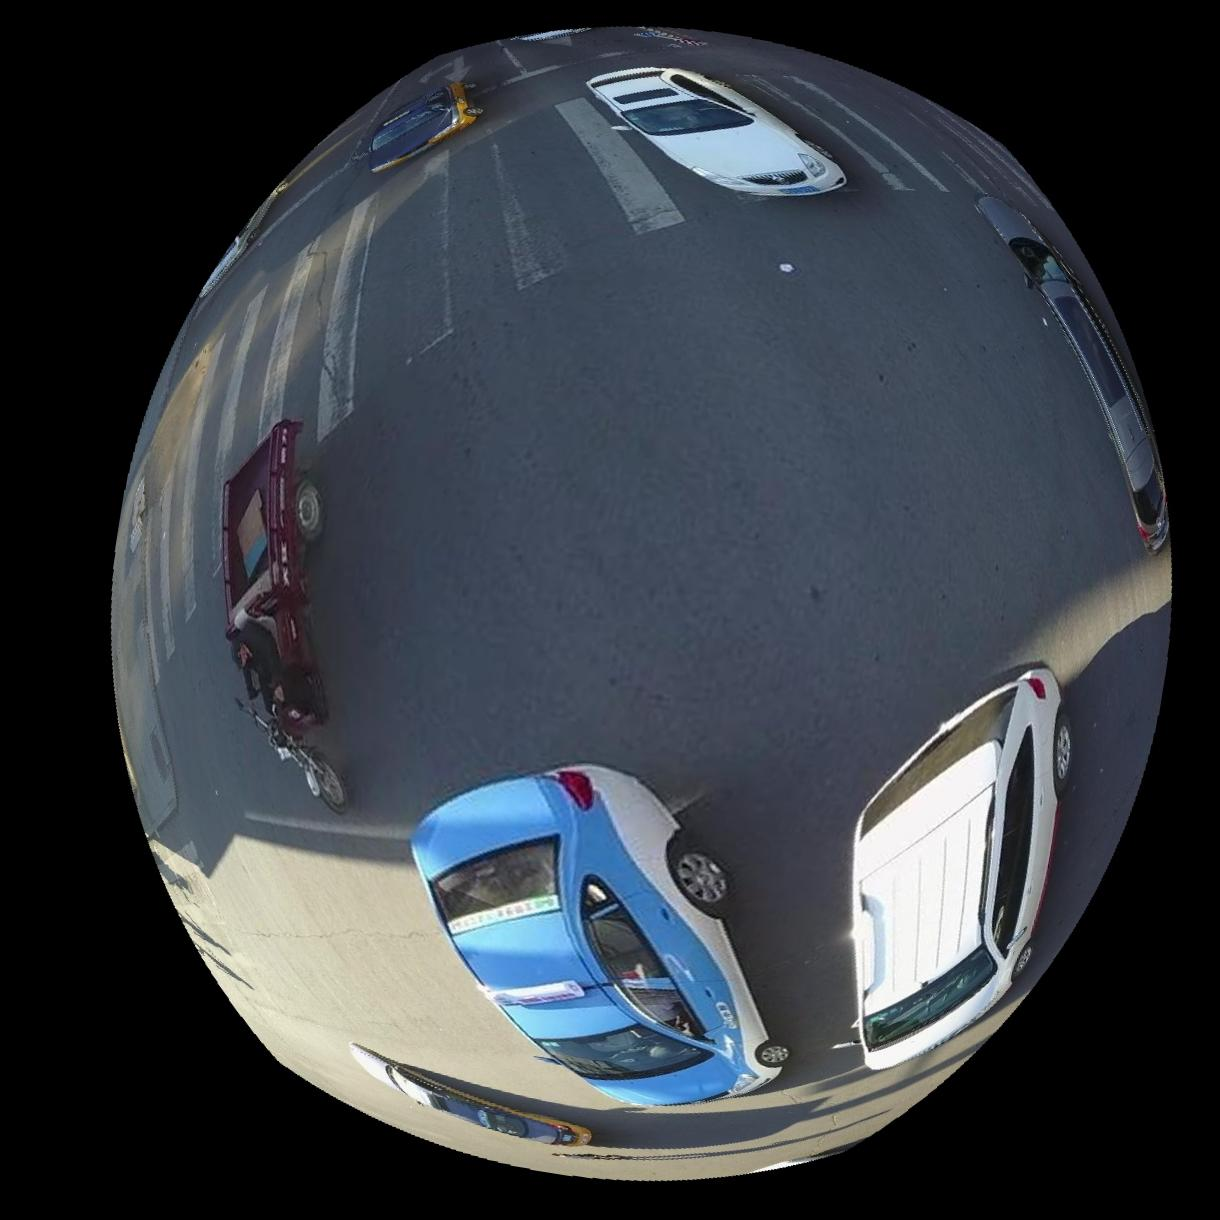cars: (411, 763, 788, 1107), (854, 666, 1071, 1069), (979, 192, 1171, 549), (220, 417, 345, 807), (588, 64, 847, 193), (349, 1045, 591, 1146), (370, 79, 482, 168)
